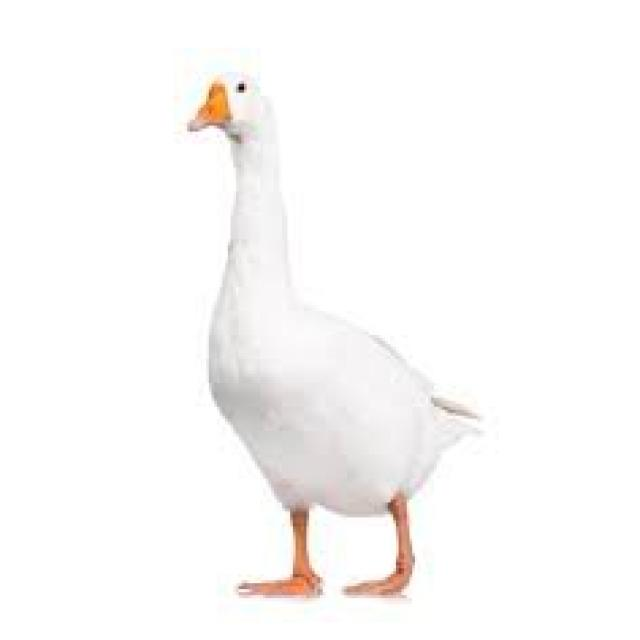Goose: (183, 69, 481, 605)
